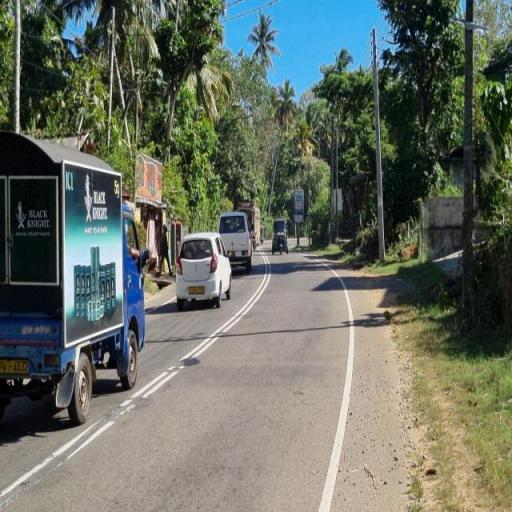double_white_line: (2, 256, 272, 499)
